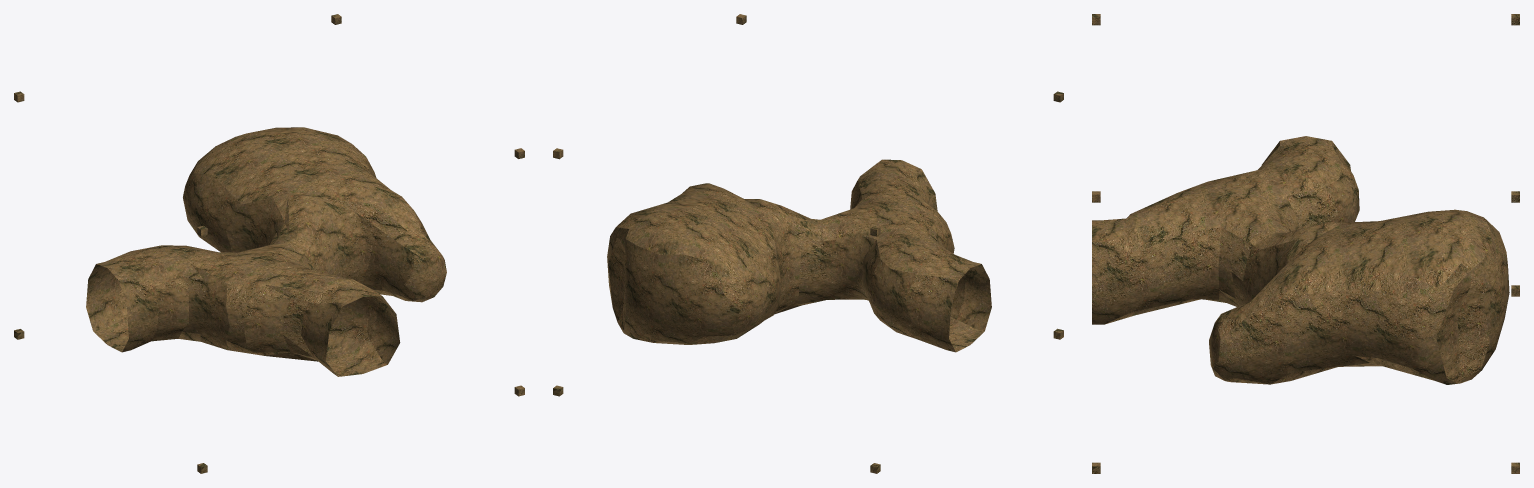
File: lba_2e.glb
The picture shows the model from 3 angles, left to right: view 1: azimuth 30°, elevation 25°; view 2: azimuth 150°, elevation 25°; view 3: azimuth 270°, elevation 25°; orthographic projection. The views are drawn at different scales.
Parts seen in each view (by area): view 1: lba_2e-col; view 2: lba_2e-col; view 3: lba_2e-col.
Part boxes in pixels (x1,y1,x2,y2): lba_2e-col: (14, 14, 524, 473); lba_2e-col: (553, 14, 1063, 473); lba_2e-col: (1092, 14, 1519, 473).
Size of the model in its own units: 15 by 10.8 by 15.
Materials: 1 (1 with a texture image).
